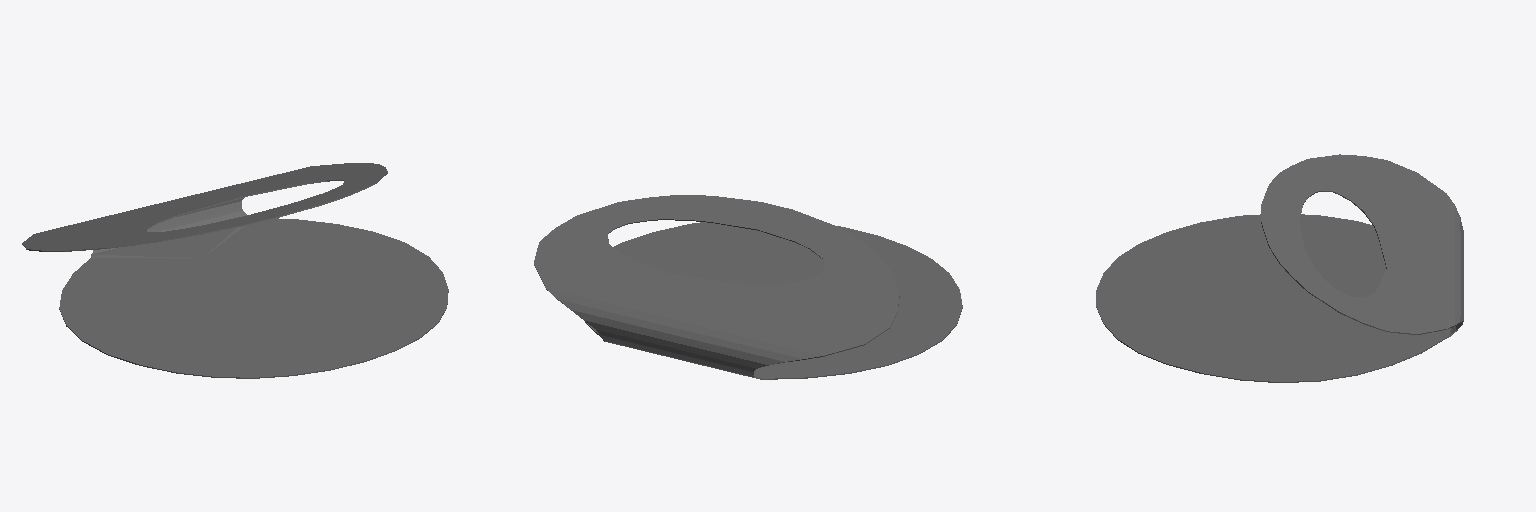
File: Structure.obj
3 renders of one model, left to right at view 1: azimuth 30°, elevation 25°; view 2: azimuth 150°, elevation 25°; view 3: azimuth 270°, elevation 25°, orthographic.
Visible parts, largest first — view 1: Cylinder001; view 2: Cylinder001; view 3: Cylinder001.
Boxes of the visible parts, x1=… form: Cylinder001: x1=22, y1=163, x2=448, y2=378; Cylinder001: x1=534, y1=195, x2=962, y2=379; Cylinder001: x1=1096, y1=154, x2=1463, y2=382.
Size of the model in its own units: 555 by 131 by 503.